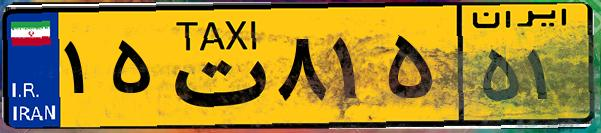1: (330, 28, 385, 110), (57, 26, 110, 100), (525, 38, 570, 115)
5: (385, 28, 445, 110), (475, 38, 525, 113), (110, 28, 158, 98)
8: (270, 28, 330, 110)
ت: (158, 12, 270, 120)
